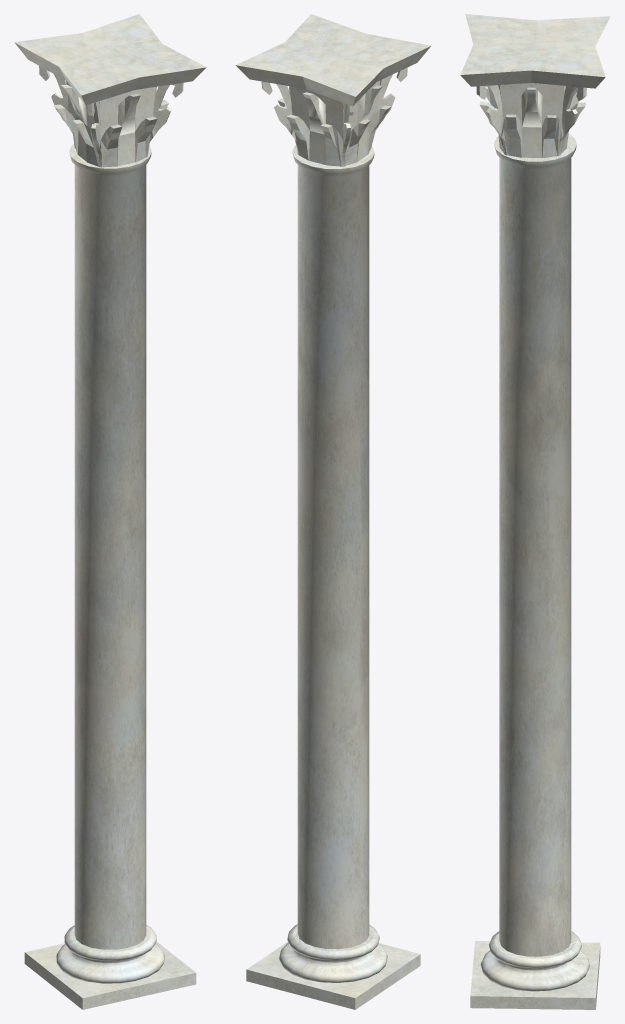
The model's file is white_column23.fbx.
3 renders of one model, left to right at view 1: azimuth 30°, elevation 25°; view 2: azimuth 150°, elevation 25°; view 3: azimuth 270°, elevation 25°, orthographic.
Parts seen in each view (by area): view 1: white_marble_629, white_marble_638, white_marble_628, white_marble_627, white_marble_636, white_marble_630, white_marble_632, white_marble_631, white_marble_634; view 2: white_marble_629, white_marble_638, white_marble_628, white_marble_627, white_marble_637, white_marble_630, white_marble_635, white_marble_631; view 3: white_marble_629, white_marble_638, white_marble_633, white_marble_628, white_marble_627, white_marble_632, white_marble_635.
Part boxes in pixels (x1,y1,x2,y2): white_marble_629: [69, 144, 151, 949]; white_marble_638: [14, 14, 206, 105]; white_marble_628: [24, 941, 196, 1009]; white_marble_627: [56, 925, 164, 983]; white_marble_636: [99, 87, 157, 167]; white_marble_630: [54, 81, 98, 166]; white_marble_632: [146, 82, 183, 157]; white_marble_631: [87, 101, 102, 167]; white_marble_634: [39, 66, 75, 148]; white_marble_629: [292, 145, 374, 949]; white_marble_638: [235, 14, 430, 106]; white_marble_628: [246, 941, 420, 1009]; white_marble_627: [279, 924, 387, 982]; white_marble_637: [286, 86, 343, 166]; white_marble_630: [343, 80, 391, 165]; white_marble_635: [261, 81, 298, 155]; white_marble_631: [371, 67, 407, 148]; white_marble_629: [494, 133, 576, 956]; white_marble_638: [460, 14, 610, 88]; white_marble_633: [499, 83, 564, 158]; white_marble_628: [470, 941, 600, 1009]; white_marble_627: [480, 931, 589, 991]; white_marble_632: [476, 85, 507, 155]; white_marble_635: [557, 86, 586, 155].
Size of the model in its own units: 53.59 by 370 by 53.96.
